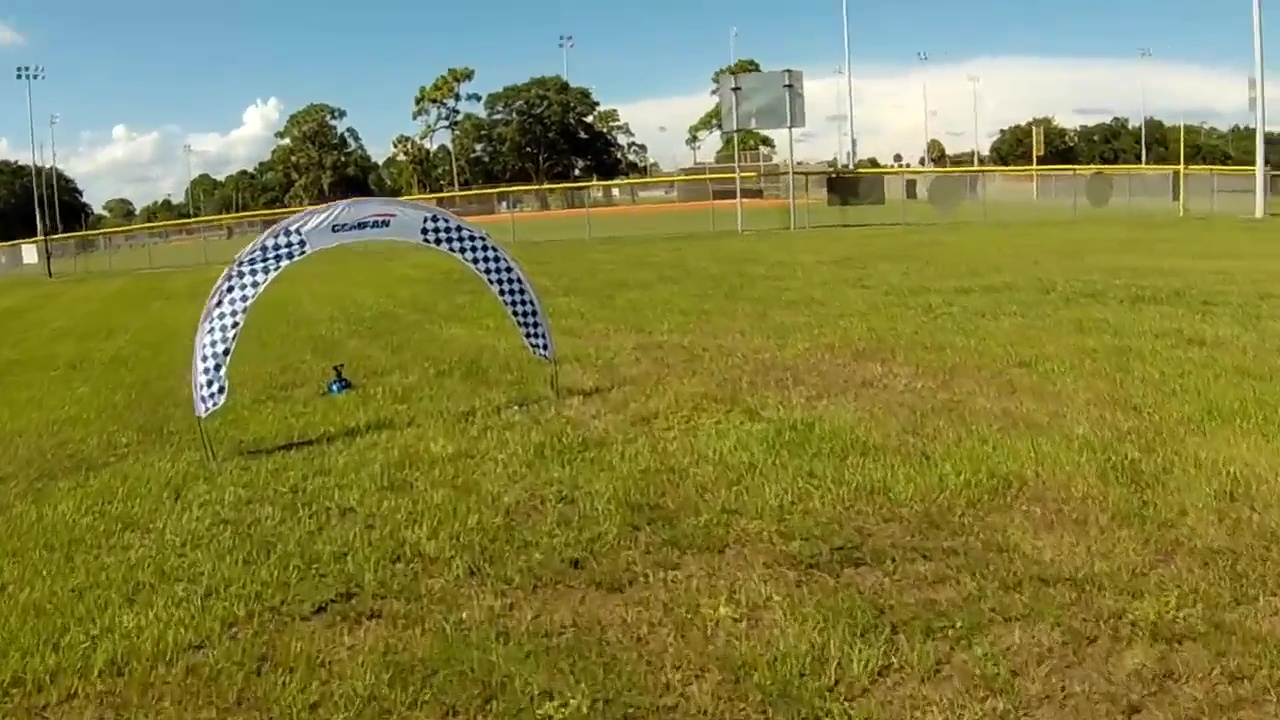gate: (188, 201, 555, 418)
